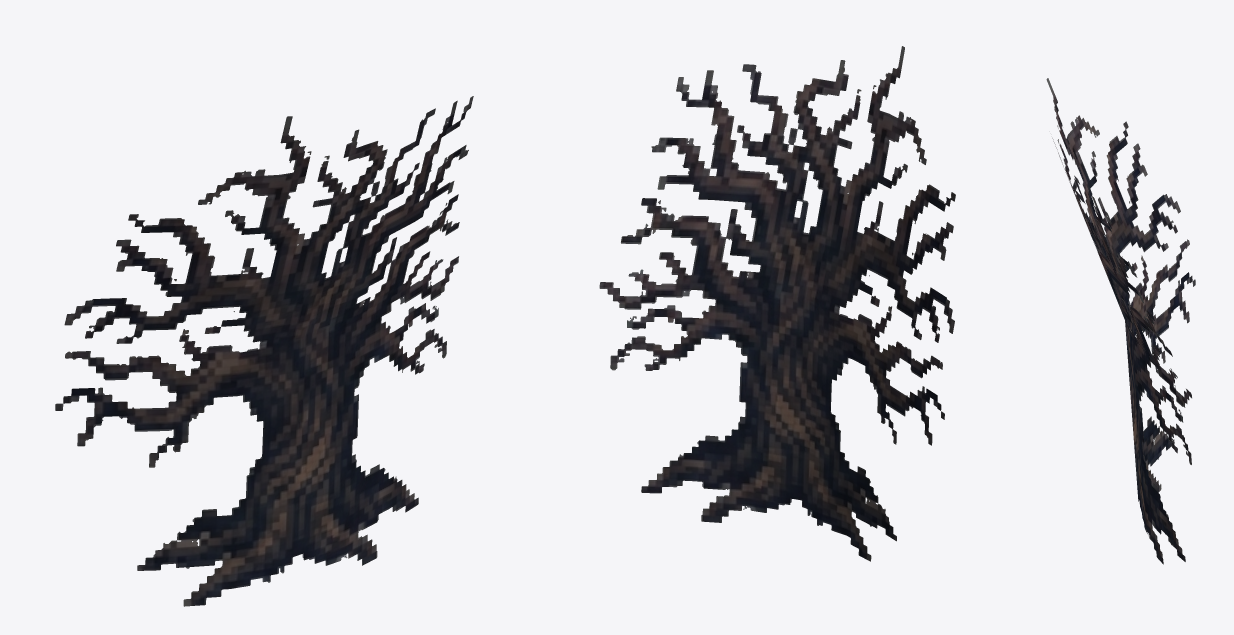
The model's file is tree2.fbx.
3 renders of one model, left to right at view 1: azimuth 30°, elevation 25°; view 2: azimuth 150°, elevation 25°; view 3: azimuth 270°, elevation 25°, orthographic. The views are drawn at different scales.
Parts seen in each view (by area): view 1: Plane; view 2: Plane; view 3: Plane.
Boxes of the visible parts, x1,y1,x2,y2 form: Plane: [55, 96, 473, 606]; Plane: [599, 46, 955, 561]; Plane: [1046, 78, 1195, 564].
Size of the model in its own units: 200 by 229 by 87.46.
1 material, 1 textured.
